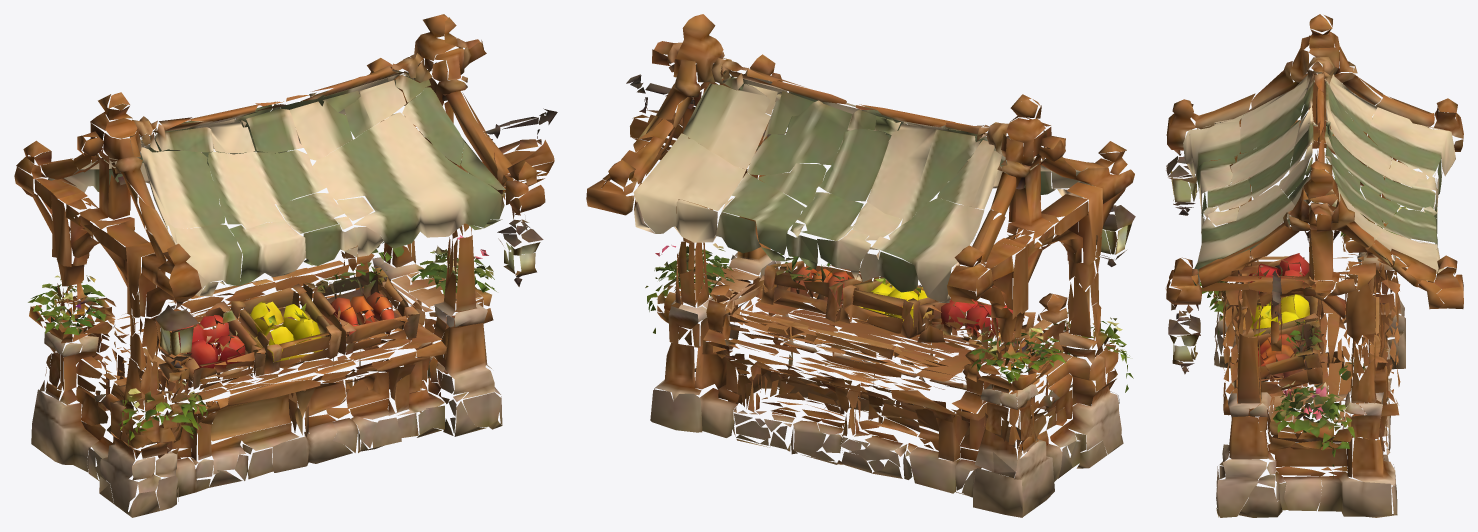
The model's file is market-mobile-v2.glb.
3 views of the same model, side by side, from view 1: azimuth 30°, elevation 25°; view 2: azimuth 150°, elevation 25°; view 3: azimuth 270°, elevation 25° (orthographic). The views are drawn at different scales.
Parts seen in each view (by area): view 1: tripo_node_9abd3d9b-ffe7-4be6-a7dd-1f0863c8ea92; view 2: tripo_node_9abd3d9b-ffe7-4be6-a7dd-1f0863c8ea92; view 3: tripo_node_9abd3d9b-ffe7-4be6-a7dd-1f0863c8ea92.
Boxes of the visible parts, left/top/right/bottom form: tripo_node_9abd3d9b-ffe7-4be6-a7dd-1f0863c8ea92: left=14, top=14, right=557, bottom=517; tripo_node_9abd3d9b-ffe7-4be6-a7dd-1f0863c8ea92: left=586, top=14, right=1135, bottom=517; tripo_node_9abd3d9b-ffe7-4be6-a7dd-1f0863c8ea92: left=1165, top=14, right=1463, bottom=517.
Bounding box in the file's own units: 3.82 × 2.91 × 2.23.
Materials: 1 (1 with a texture image).
